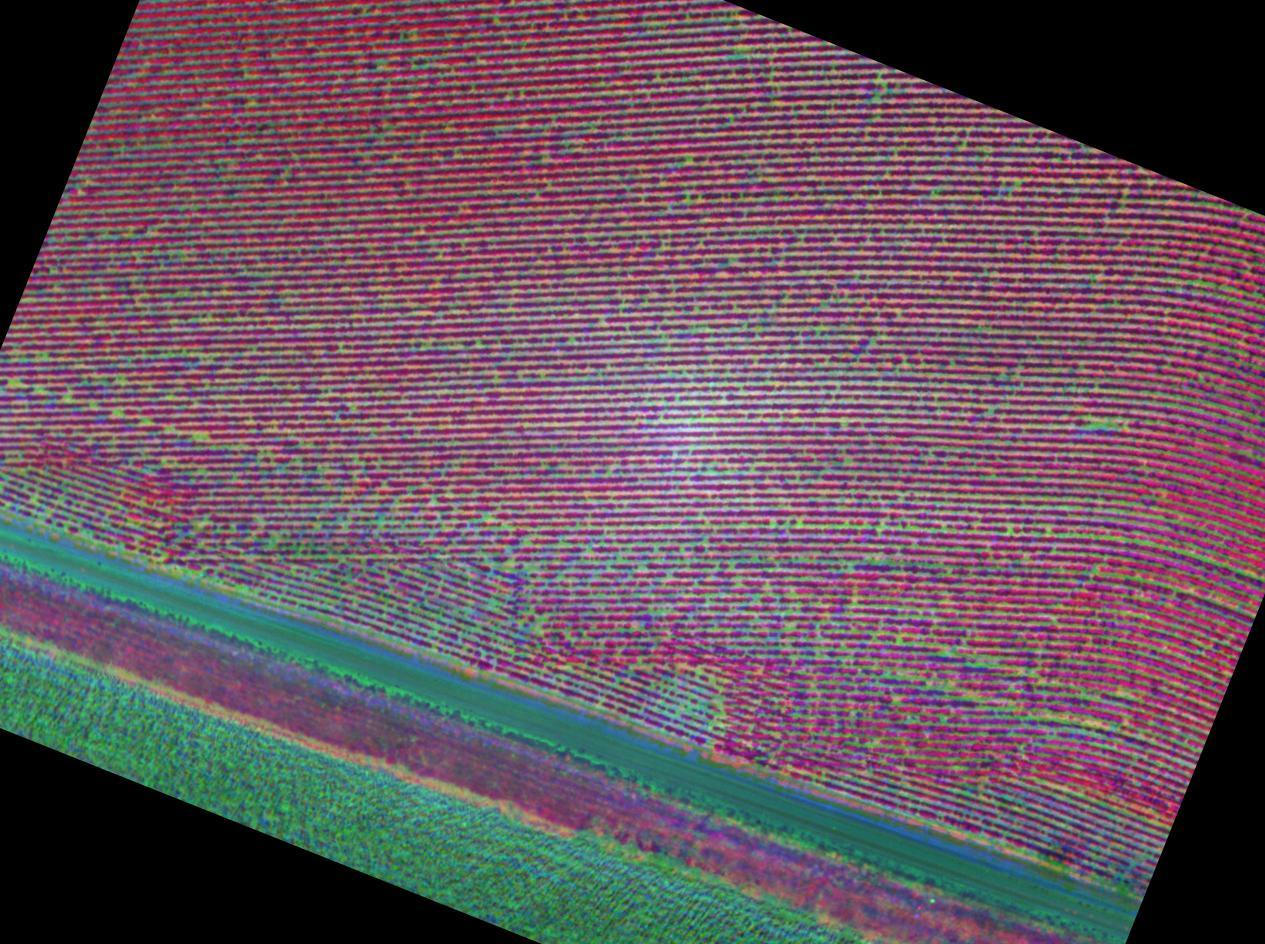dc: (687, 157, 692, 162), (527, 566, 532, 571), (730, 258, 734, 262), (871, 341, 875, 345), (537, 620, 541, 624), (843, 421, 846, 425), (136, 254, 139, 257)
